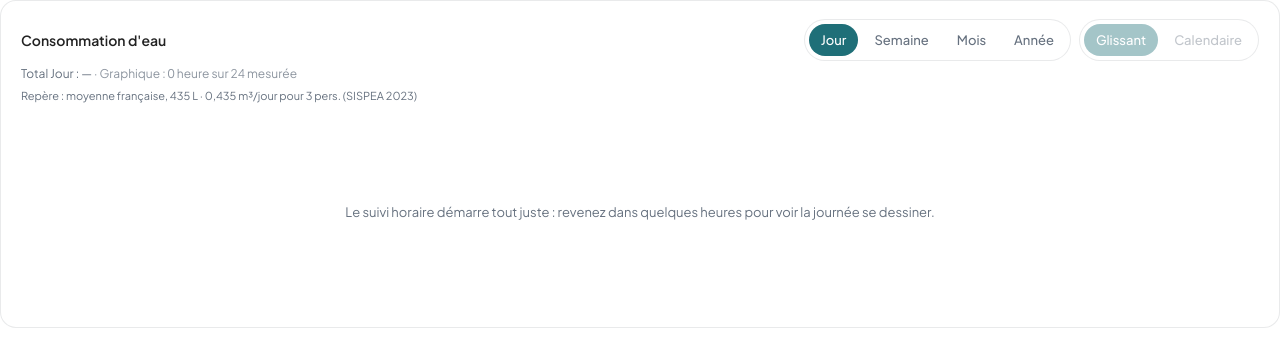
Scenario: WaterConsumptionChart — consumption history › week and month read weekL and monthL respectively, not the sum of the daily steps
Click the tab with class "segmented__item" showing "Semaine".
click(902, 40)  # box [862,24,941,56]
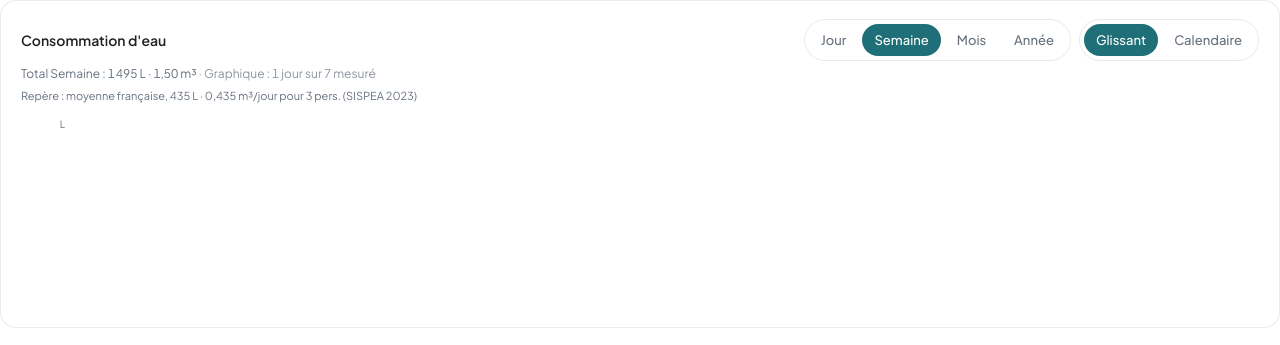
Expected: the element with class "chart__total" shows "495 L", [21,66,198,81]
Click the tab with class "segmented__item" showing "Mois".
click(971, 40)  # box [945,24,998,56]
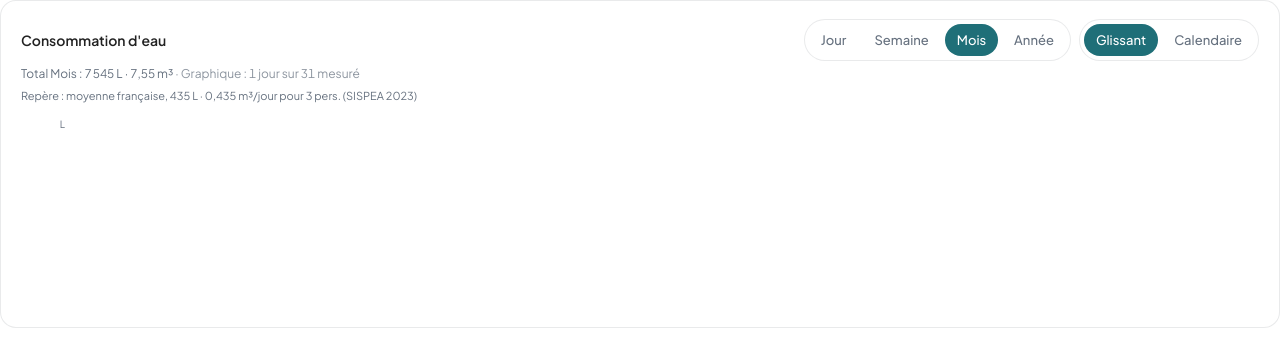
Expected: the element with class "chart__total" shows "545 L", [21,66,175,81]
